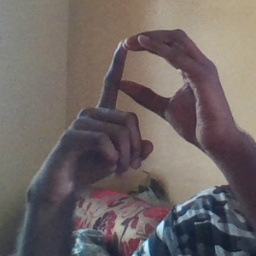P: (56, 24, 223, 185)
